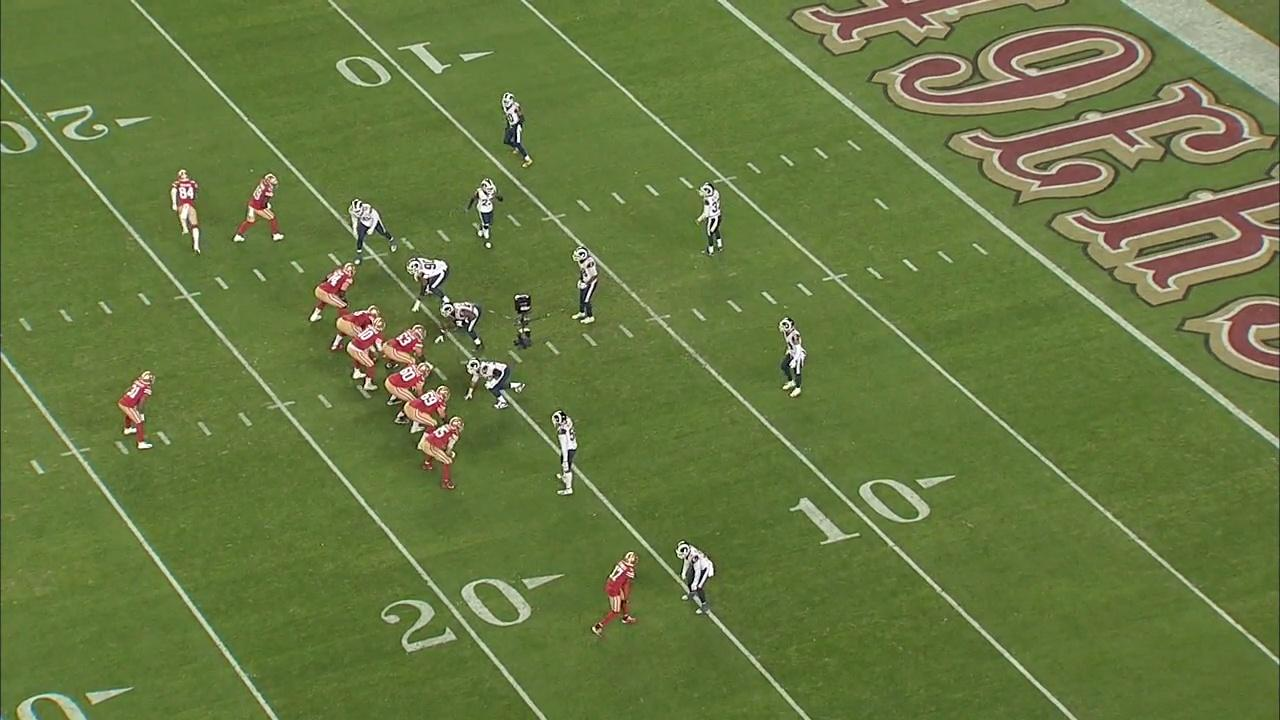defense: (671, 539, 720, 620), (345, 194, 401, 263), (459, 359, 529, 412), (547, 406, 583, 504), (497, 94, 536, 171), (569, 241, 600, 331), (778, 315, 809, 402), (435, 301, 490, 350), (470, 176, 504, 253), (695, 181, 727, 262), (403, 256, 449, 306)
oline: (380, 360, 435, 426), (306, 260, 358, 322), (329, 303, 378, 356), (405, 381, 451, 437), (389, 315, 433, 366)
qb: (350, 317, 387, 393)
skill: (585, 541, 650, 651), (229, 160, 283, 247), (114, 361, 163, 454), (420, 414, 467, 499), (168, 168, 206, 258)
